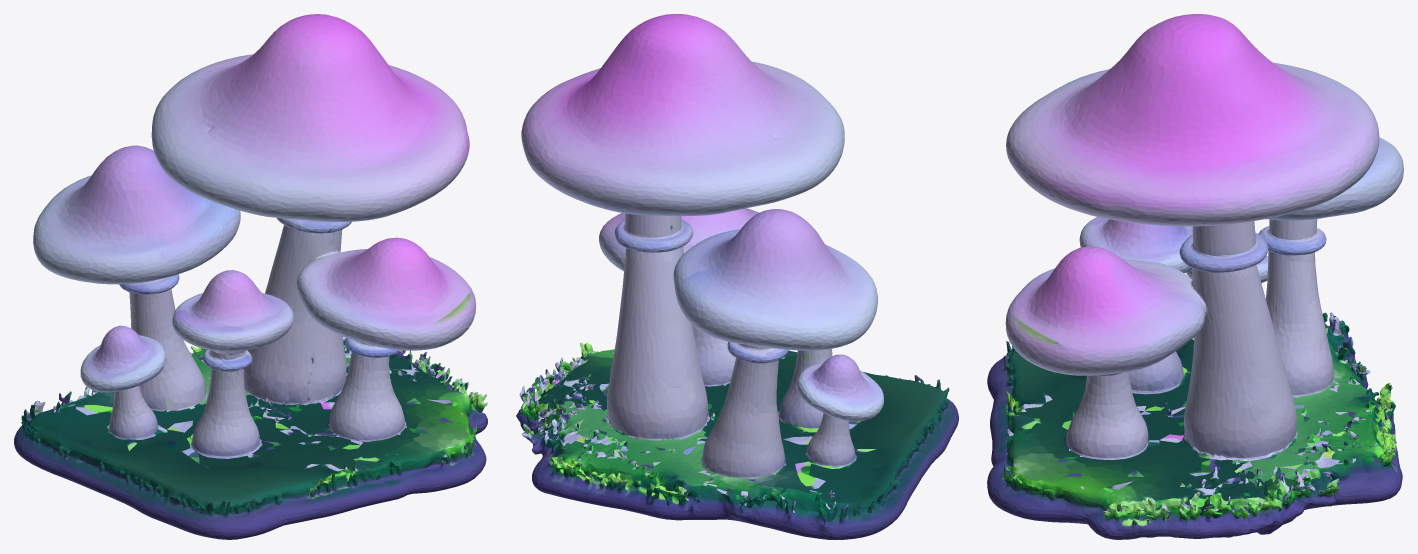
Rendered from giant_glowing_mushroom_pack.glb.
The picture shows the model from 3 angles, left to right: view 1: azimuth 30°, elevation 25°; view 2: azimuth 150°, elevation 25°; view 3: azimuth 270°, elevation 25°; orthographic projection. The views are drawn at different scales.
Visible parts, largest first — view 1: tmpioggbybo.ply; view 2: tmpioggbybo.ply; view 3: tmpioggbybo.ply.
Part boxes in pixels (x1,y1,x2,y2): tmpioggbybo.ply: (14, 14, 487, 539); tmpioggbybo.ply: (516, 14, 958, 539); tmpioggbybo.ply: (987, 14, 1403, 539).
Bounding box in the file's own units: 1.93 × 1.96 × 1.63.
1 material, 1 textured.
